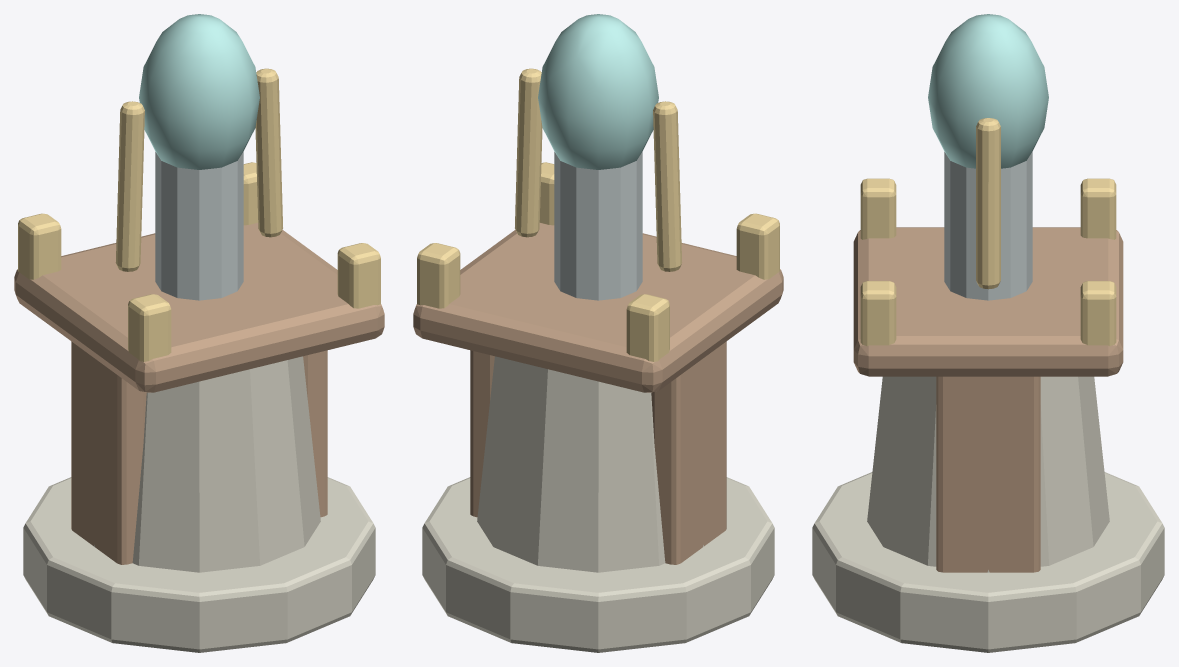
File: tower_beacon.glb
3 views of the same model, side by side, from view 1: azimuth 30°, elevation 25°; view 2: azimuth 150°, elevation 25°; view 3: azimuth 270°, elevation 25° (orthographic).
Parts seen in each view (by area): view 1: Sculpt__Limestone, Sculpt__Honey oak, Sculpt_Turret_Ice crystal, Sculpt_Turret_Forged iron, Sculpt__Hammered brass, Sculpt_Turret_Hammered brass; view 2: Sculpt__Limestone, Sculpt__Honey oak, Sculpt_Turret_Ice crystal, Sculpt_Turret_Forged iron, Sculpt__Hammered brass, Sculpt_Turret_Hammered brass; view 3: Sculpt__Limestone, Sculpt__Honey oak, Sculpt_Turret_Ice crystal, Sculpt__Hammered brass, Sculpt_Turret_Forged iron, Sculpt_Turret_Hammered brass.
Boxes of the visible parts, <box> form: Sculpt__Limestone: <box>23,356,375,652</box>; Sculpt__Honey oak: <box>14,223,384,564</box>; Sculpt_Turret_Ice crystal: <box>139,14,259,169</box>; Sculpt_Turret_Forged iron: <box>155,152,243,300</box>; Sculpt__Hammered brass: <box>18,162,380,361</box>; Sculpt_Turret_Hammered brass: <box>115,68,282,271</box>; Sculpt__Limestone: <box>422,356,774,652</box>; Sculpt__Honey oak: <box>413,223,783,564</box>; Sculpt_Turret_Ice crystal: <box>538,14,658,169</box>; Sculpt_Turret_Forged iron: <box>554,152,642,300</box>; Sculpt__Hammered brass: <box>417,162,779,361</box>; Sculpt_Turret_Hammered brass: <box>515,68,682,271</box>; Sculpt__Limestone: <box>812,376,1164,652</box>; Sculpt__Honey oak: <box>853,227,1123,572</box>; Sculpt_Turret_Ice crystal: <box>928,14,1048,168</box>; Sculpt__Hammered brass: <box>860,178,1116,346</box>; Sculpt_Turret_Forged iron: <box>944,152,1032,300</box>; Sculpt_Turret_Hammered brass: <box>976,118,1000,289</box>.
Bounding box in the file's own units: 1.28 × 2.26 × 1.28.
